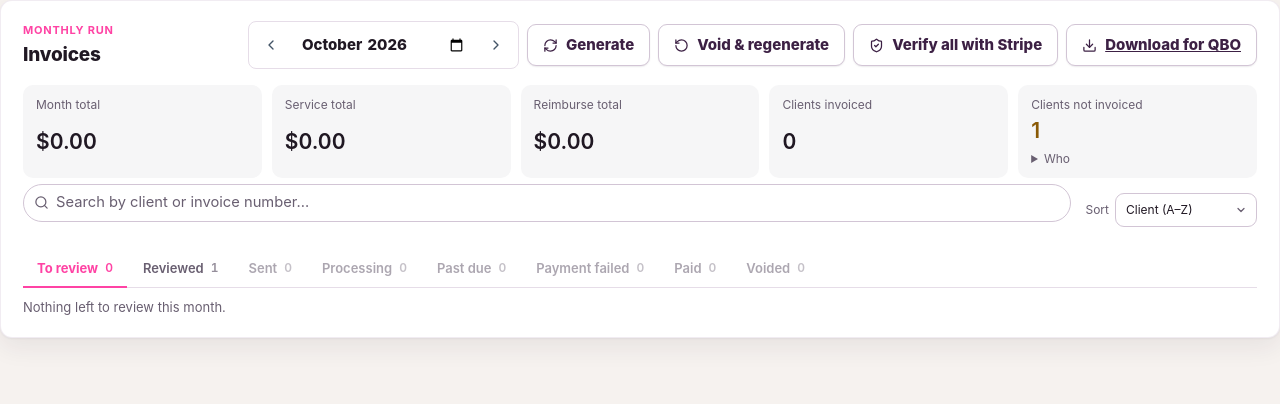
Test case: the month run row › shows no flag on an invoice the list did not mark
Click the tab "Reviewed 1".
click(181, 269)  # box left=129, top=250, right=232, bottom=288
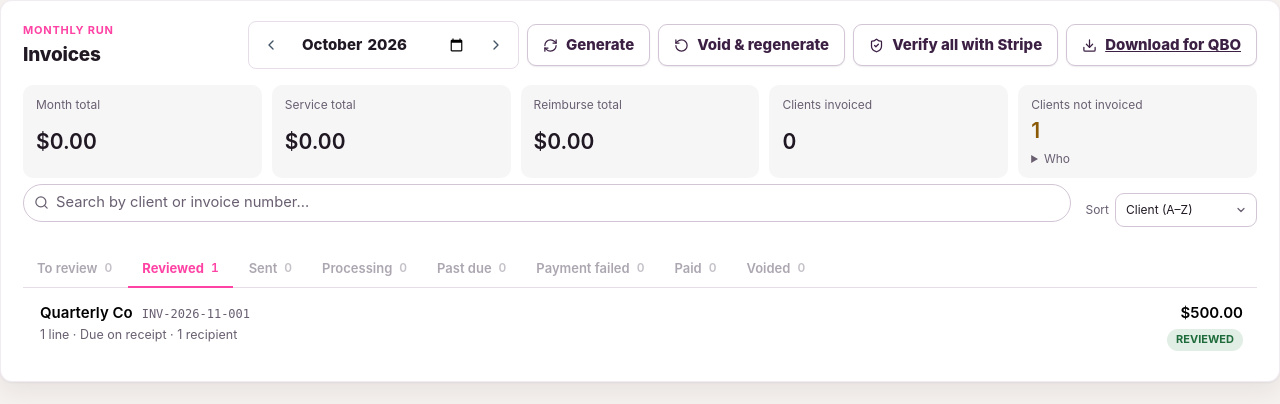
expect the text "INV-2026-11-001" is shown: met, box left=142, top=306, right=250, bottom=324
